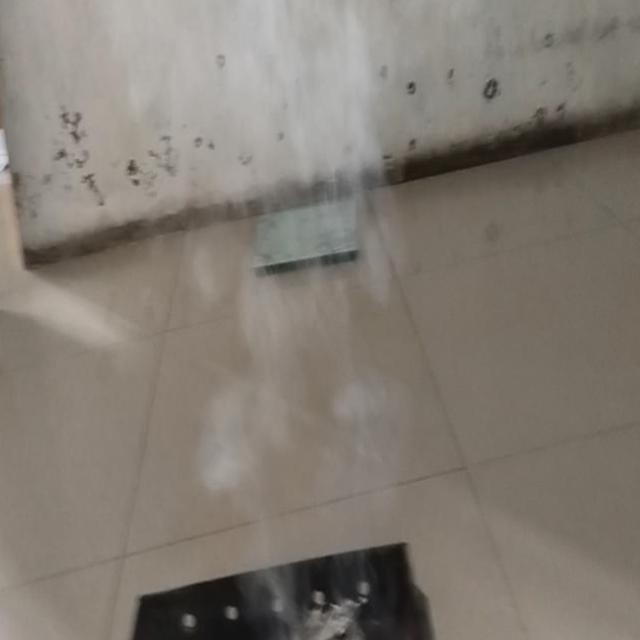fire: (192, 8, 408, 497)
